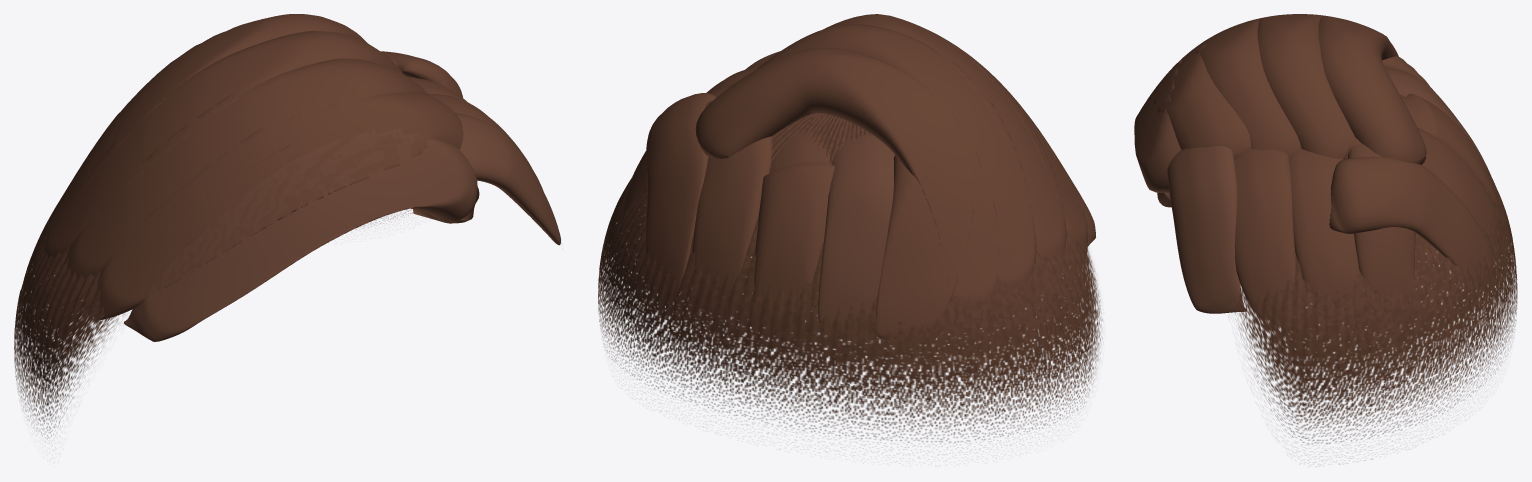
Rendered from Masculine-taper-beanie256-hair.glb.
The picture shows the model from 3 angles, left to right: view 1: azimuth 30°, elevation 25°; view 2: azimuth 150°, elevation 25°; view 3: azimuth 270°, elevation 25°; orthographic projection. The views are drawn at different scales.
Parts seen in each view (by area): view 1: 226 hair / Hair252 / sculpted locks, 226 hair / Hair252 / gentle tonal variation, 226 hair / Hair256 / selected B sides; view 2: 226 hair / Hair252 / sculpted locks, 226 hair / Hair256 / selected B sides, 226 hair / Hair252 / gentle tonal variation; view 3: 226 hair / Hair252 / sculpted locks, 226 hair / Hair256 / selected B sides, 226 hair / Hair252 / gentle tonal variation.
Boxes of the visible parts, x1=… form: 226 hair / Hair252 / sculpted locks: x1=40, y1=14, x2=543, y2=320; 226 hair / Hair252 / gentle tonal variation: x1=123, y1=113, x2=560, y2=341; 226 hair / Hair256 / selected B sides: x1=14, y1=209, x2=561, y2=438; 226 hair / Hair252 / sculpted locks: x1=621, y1=14, x2=1087, y2=341; 226 hair / Hair256 / selected B sides: x1=598, y1=113, x2=1102, y2=448; 226 hair / Hair252 / gentle tonal variation: x1=745, y1=51, x2=1095, y2=339; 226 hair / Hair252 / sculpted locks: x1=1153, y1=14, x2=1501, y2=319; 226 hair / Hair256 / selected B sides: x1=1235, y1=94, x2=1517, y2=460; 226 hair / Hair252 / gentle tonal variation: x1=1134, y1=57, x2=1490, y2=313.
Bounding box in the file's own units: 0.972 × 0.6941 × 0.7219.
Materials: 3 (1 with a texture image).
